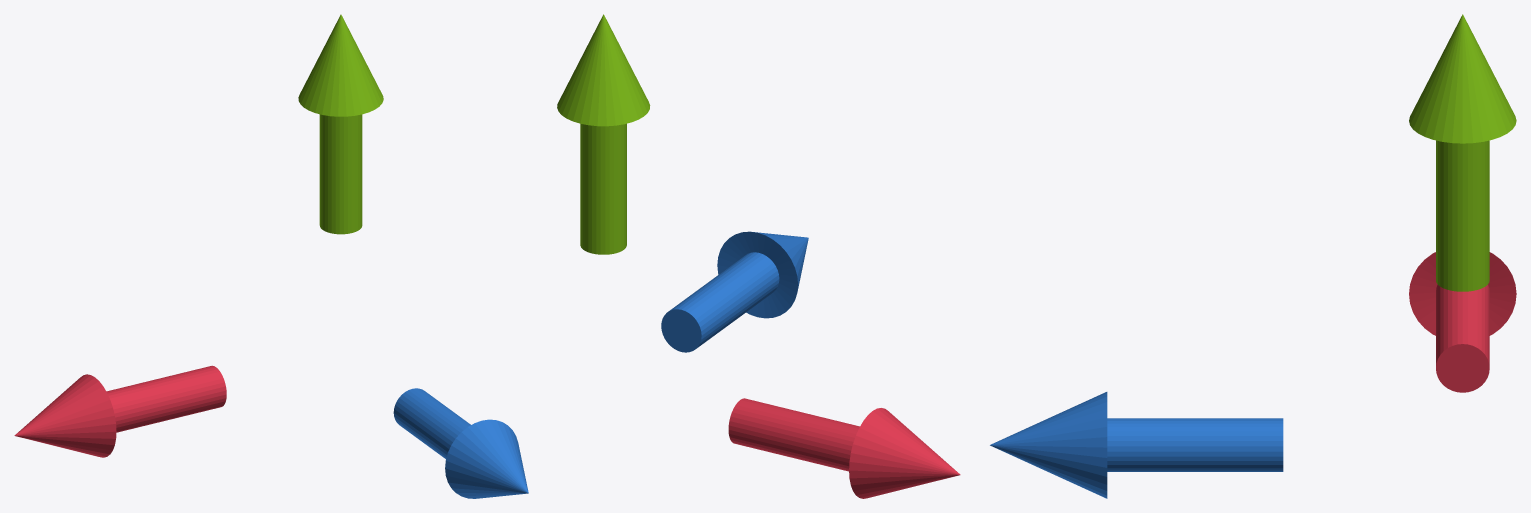
Rendered from Arrow.fbx.
3 views of the same model, side by side, from view 1: azimuth 30°, elevation 25°; view 2: azimuth 150°, elevation 25°; view 3: azimuth 270°, elevation 25° (orthographic). The views are drawn at different scales.
Parts seen in each view (by area): view 1: Cylinder; view 2: Cylinder; view 3: Cylinder.
Part boxes in pixels (box(x1,y1,x2,y2)): Cylinder: box(14, 14, 528, 498); Cylinder: box(557, 14, 960, 498); Cylinder: box(990, 14, 1516, 498).
Bounding box in the file's own units: 590 × 588 × 590.
